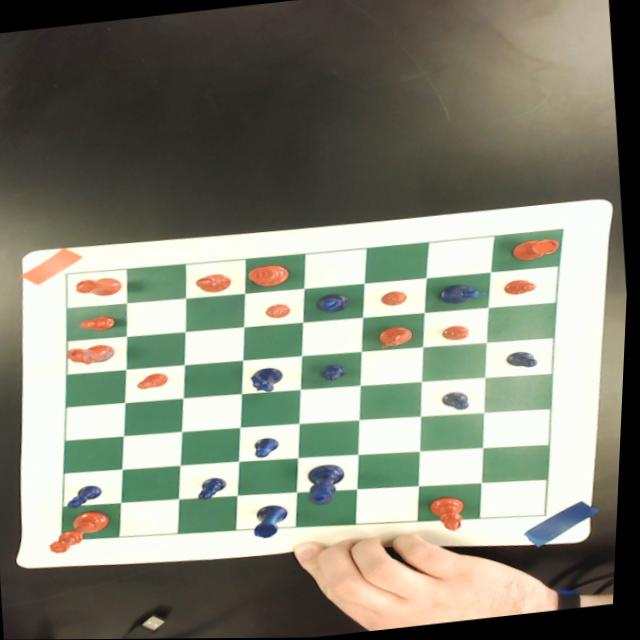B: (316, 290, 355, 314)
K: (308, 461, 352, 505)
N: (440, 281, 490, 304), (252, 365, 289, 393)
P: (67, 483, 108, 509), (199, 475, 232, 500), (506, 349, 543, 370), (442, 390, 477, 412), (254, 436, 285, 459), (320, 362, 353, 381)
R: (254, 503, 296, 541)
b: (432, 495, 471, 533), (195, 272, 234, 294)
k: (247, 262, 294, 289)
n: (65, 341, 120, 367), (378, 321, 419, 350)
p: (503, 275, 541, 298), (80, 313, 121, 332), (138, 370, 174, 391), (445, 323, 473, 341), (382, 289, 411, 306), (267, 301, 294, 318)
q: (50, 509, 118, 553)
r: (75, 274, 126, 299), (513, 236, 563, 261)
